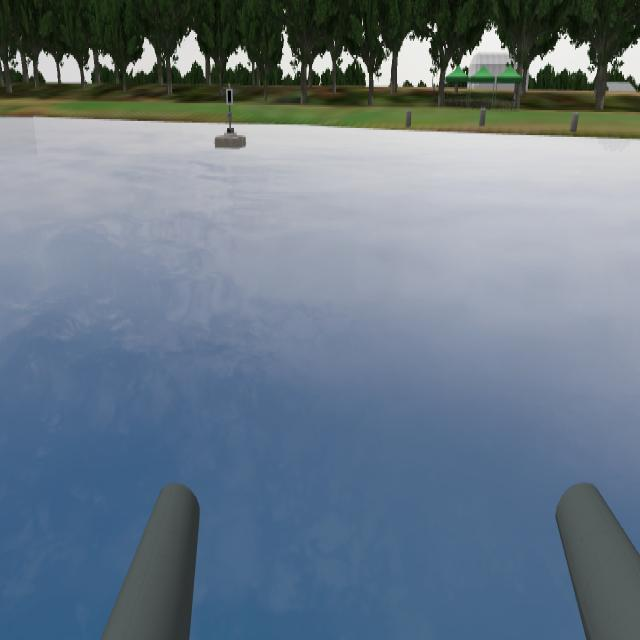black_pole: (220, 78, 239, 109)
